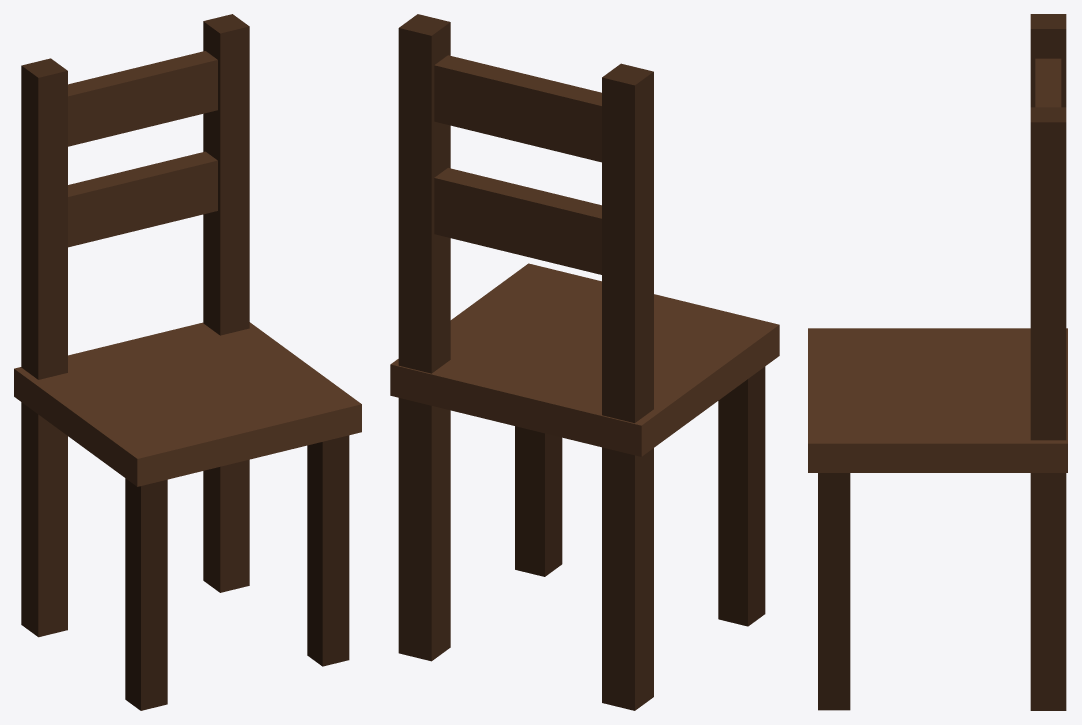
Rendered from chair.glb.
3 views of the same model, side by side, from view 1: azimuth 30°, elevation 25°; view 2: azimuth 150°, elevation 25°; view 3: azimuth 270°, elevation 25° (orthographic). The views are drawn at different scales.
Parts seen in each view (by area): view 1: chair; view 2: chair; view 3: chair.
Part boxes in pixels (x1,y1,x2,y2): chair: (14,14,361,710); chair: (390,14,779,710); chair: (808,14,1067,710).
Bounding box in the file's own units: 0.42 × 1 × 0.4.
